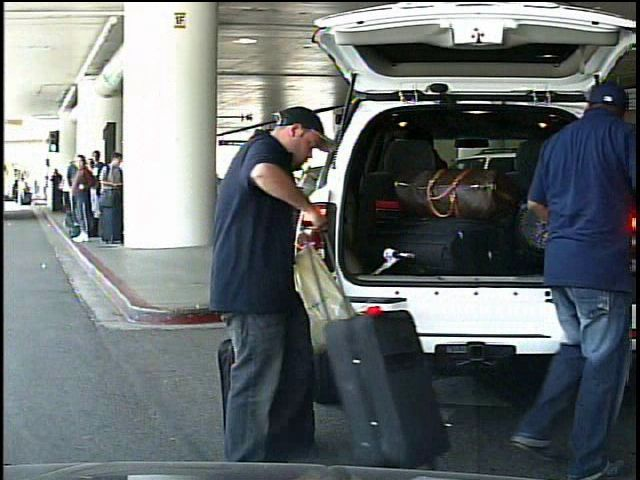person: (479, 78, 640, 480), (187, 96, 340, 466), (18, 176, 28, 207)
